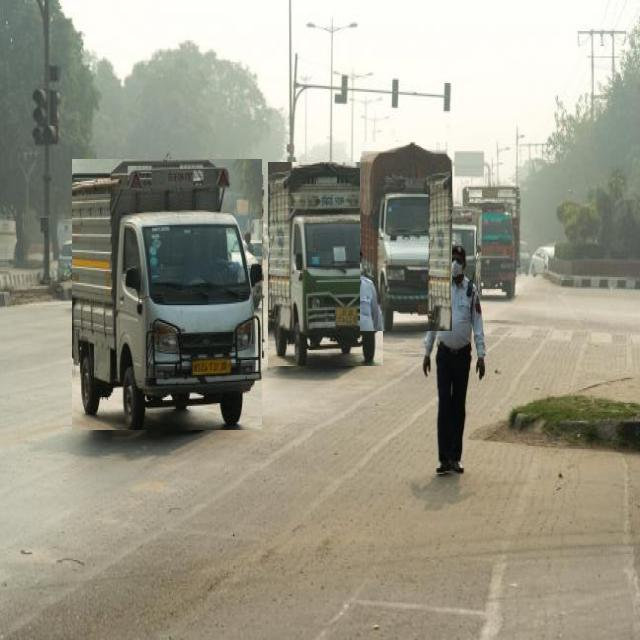truck: (72, 160, 262, 430), (269, 163, 383, 366), (360, 143, 452, 331), (462, 186, 520, 298)
